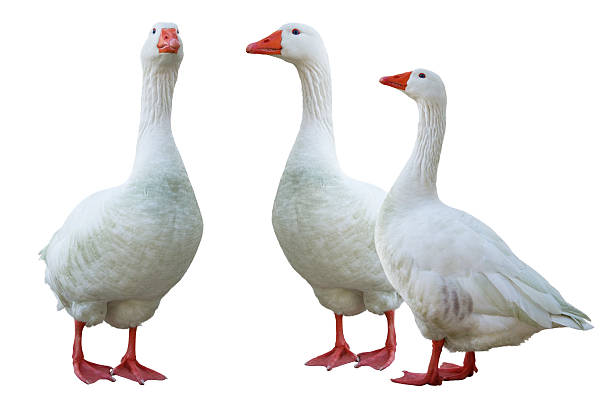goose: (371, 67, 595, 390), (36, 20, 206, 387), (244, 19, 405, 372)
